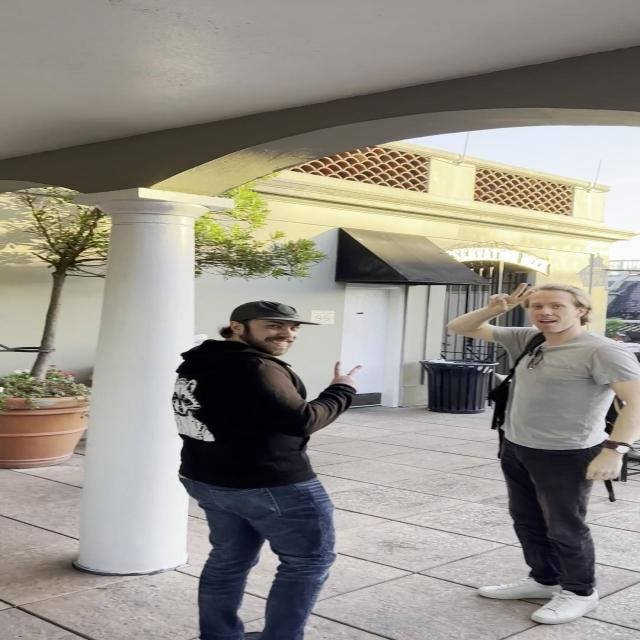NO-Mask: (526, 288, 578, 334), (252, 314, 300, 354)
